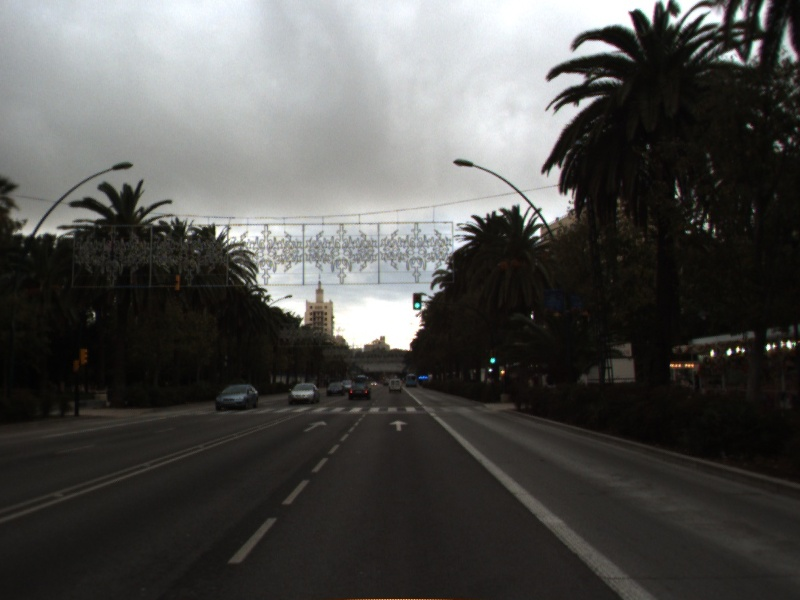STRAIGHT: (301, 419, 329, 433), (387, 418, 410, 433)
